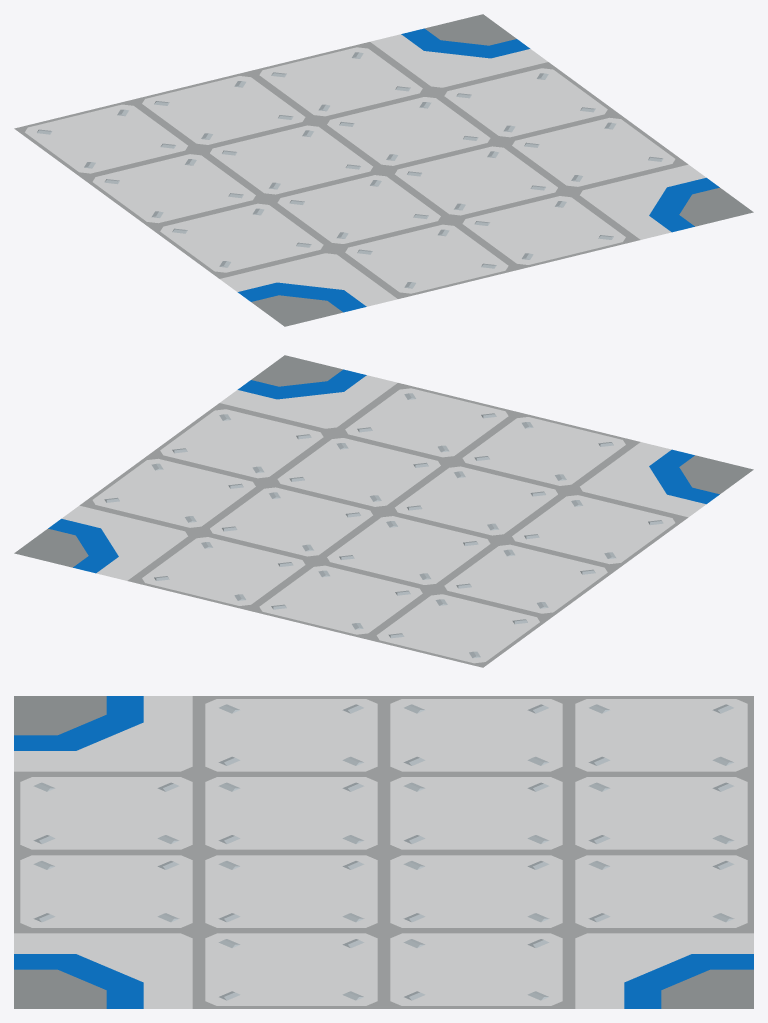
File: Floor_type_A_030.glb
3 renders of one model, top to bottom at view 1: azimuth 30°, elevation 25°; view 2: azimuth 150°, elevation 25°; view 3: azimuth 270°, elevation 25°, orthographic. The views are drawn at different scales.
Visible parts, largest first — view 1: Floor_type_A_030; view 2: Floor_type_A_030; view 3: Floor_type_A_030.
Part boxes in pixels (x1,y1,x2,y2): Floor_type_A_030: (14, 14, 753, 326); Floor_type_A_030: (14, 355, 753, 667); Floor_type_A_030: (14, 696, 753, 1008).
Bounding box in the file's own units: 4 × 0.008 × 4.
2 materials, 2 textured.
